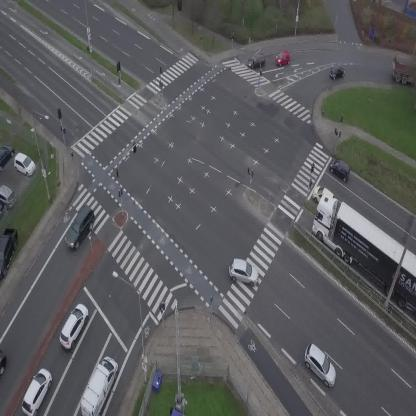car: (297, 341, 345, 389), (59, 203, 102, 252), (55, 301, 94, 351), (17, 366, 56, 416), (225, 256, 262, 288), (326, 155, 354, 182), (310, 182, 335, 203), (245, 52, 267, 69), (327, 63, 347, 81), (274, 50, 292, 66)
lorry: (76, 353, 123, 416), (393, 52, 416, 86)
